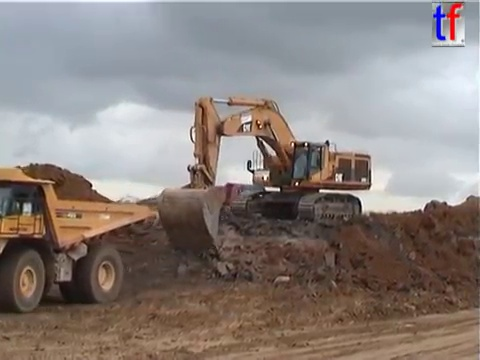excavator: (155, 93, 375, 257)
truck: (1, 166, 159, 316), (196, 181, 267, 216)
